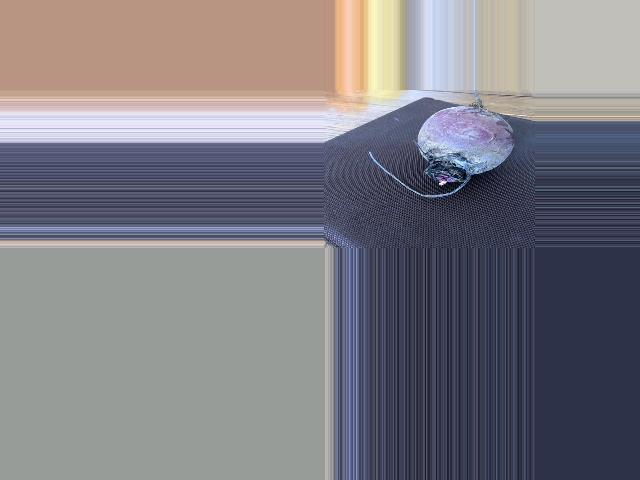beet: (368, 89, 515, 198)
